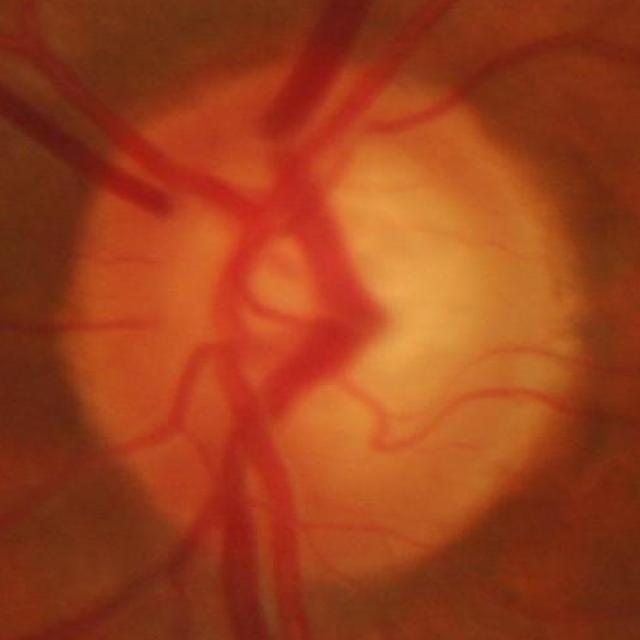OC: (222, 178, 454, 398)
OD: (58, 58, 587, 588)
